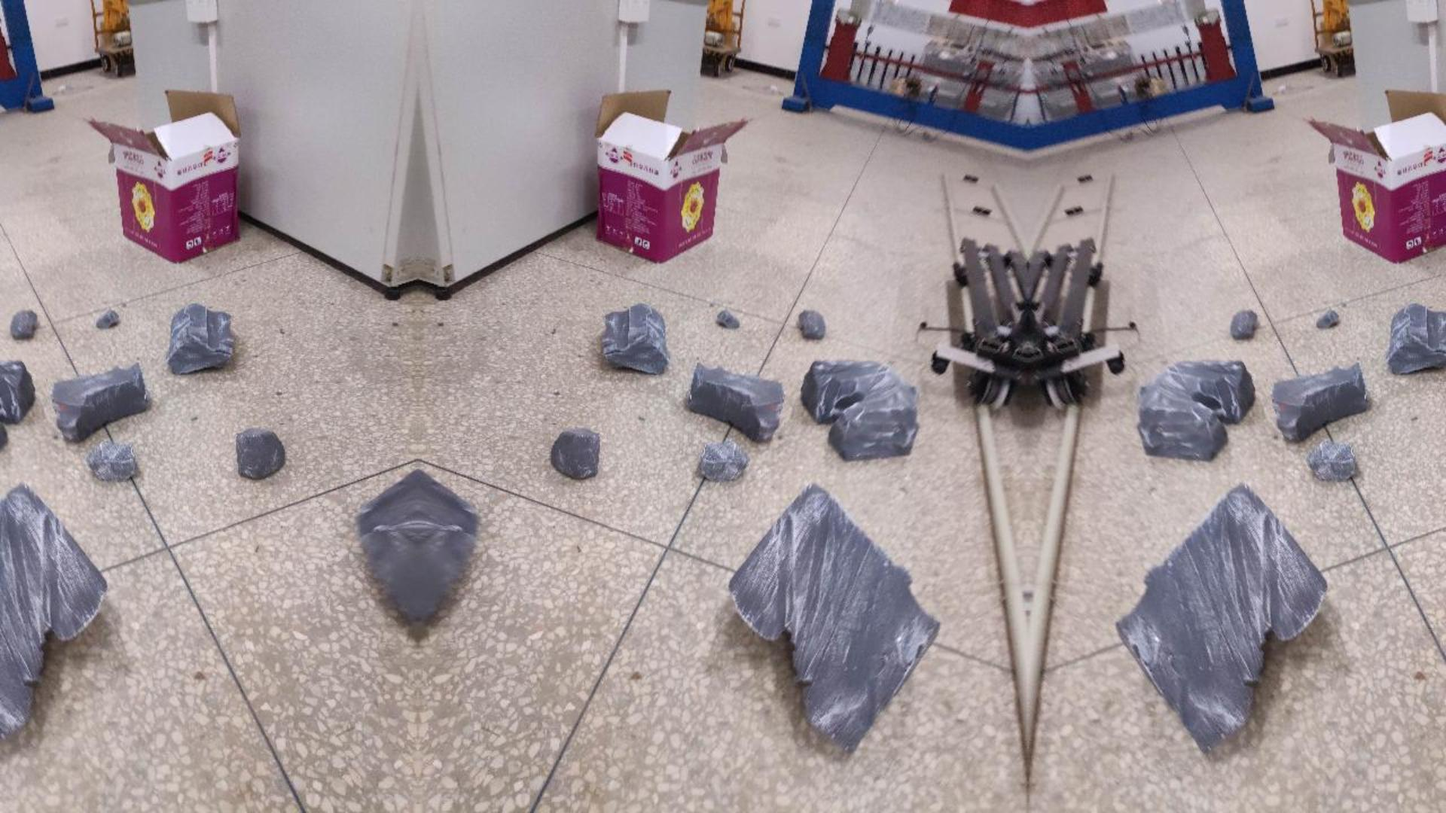rock: (1116, 484, 1326, 752), (729, 484, 939, 751), (0, 484, 106, 737), (801, 361, 917, 460), (1138, 361, 1254, 460), (415, 477, 478, 619), (357, 482, 418, 619), (1272, 362, 1368, 440), (52, 364, 150, 440), (686, 364, 783, 440), (601, 303, 668, 374), (166, 303, 233, 374), (1386, 303, 1445, 373), (0, 360, 34, 448), (550, 428, 600, 479), (236, 428, 285, 479), (85, 438, 137, 481), (1306, 437, 1356, 481), (699, 438, 748, 481), (10, 309, 37, 340), (798, 309, 825, 339), (1230, 311, 1257, 340), (95, 308, 120, 329), (1315, 308, 1339, 329), (715, 309, 740, 329)
